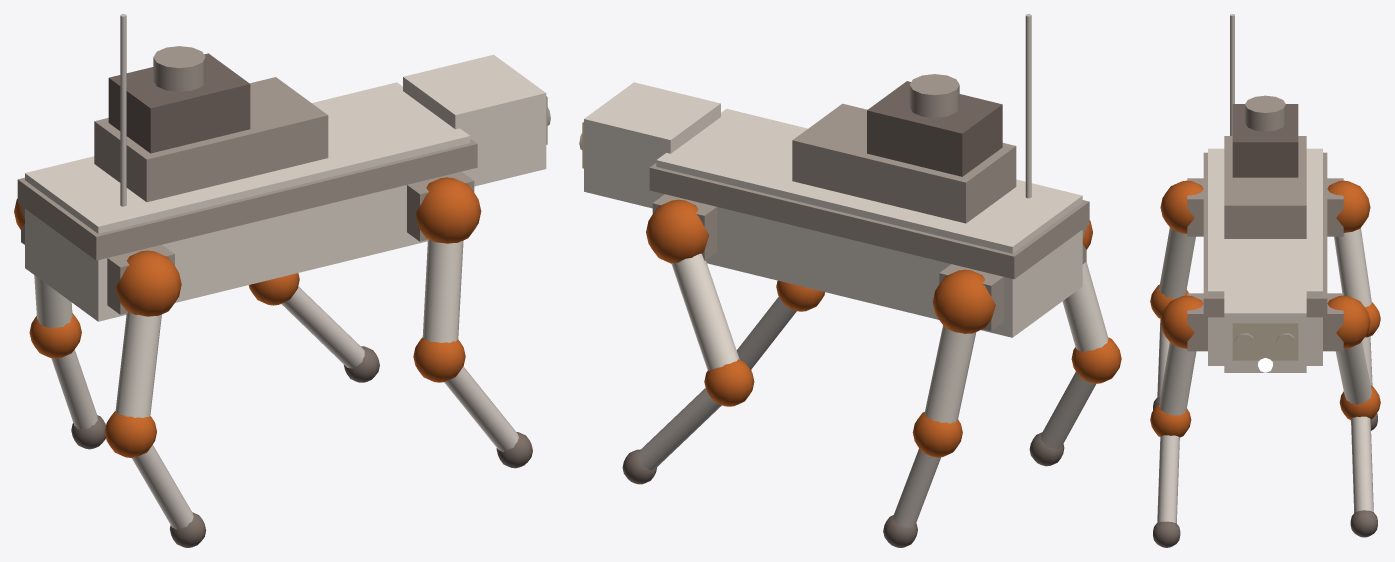
File: V12_inspection_robot.glb
3 renders of one model, left to right at view 1: azimuth 30°, elevation 25°; view 2: azimuth 150°, elevation 25°; view 3: azimuth 270°, elevation 25°, orthographic. The views are drawn at different scales.
Parts seen in each view (by area): view 1: torso, torso_band, antenna; view 2: torso, torso_band, antenna; view 3: torso, torso_band, antenna, visor.
Part boxes in pixels (x1=…): torso: x1=14, y1=53, x2=546, y2=547; torso_band: x1=17, y1=46, x2=477, y2=314; antenna: x1=51, y1=14, x2=518, y2=529; torso: x1=584, y1=81, x2=1121, y2=547; torso_band: x1=649, y1=74, x2=1089, y2=331; antenna: x1=637, y1=14, x2=1096, y2=527; torso: x1=1150, y1=104, x2=1380, y2=547; torso_band: x1=1187, y1=95, x2=1343, y2=351; antenna: x1=1157, y1=14, x2=1373, y2=523; visor: x1=1232, y1=320, x2=1298, y2=360.
Bounding box in the file's own units: 1.07 × 1.07 × 0.5601.
